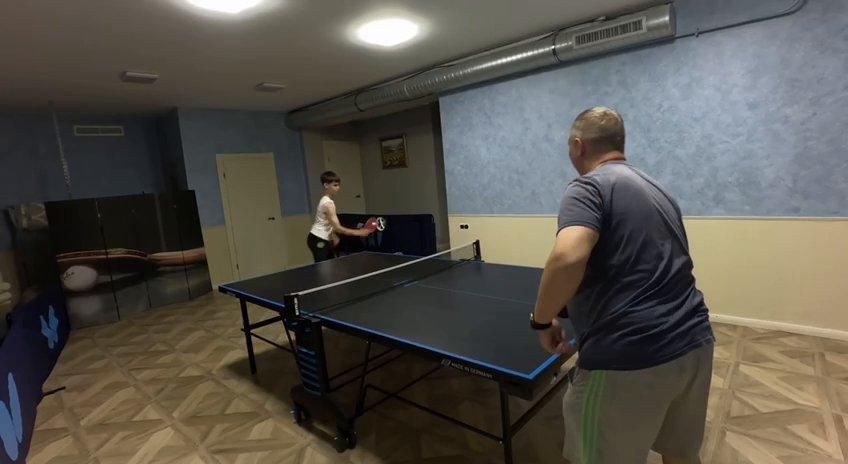Ball: (369, 221, 378, 229)
Net: (284, 241, 483, 330)
Player1: (306, 171, 366, 261)
Player2: (532, 107, 714, 463)
Table: (220, 254, 627, 383)
